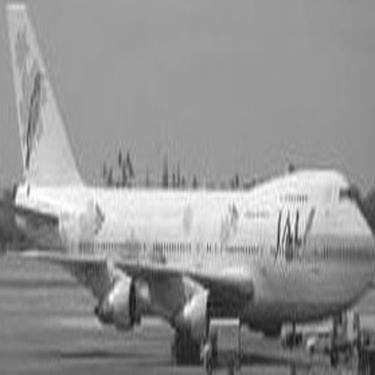airplane: (8, 6, 361, 351)
